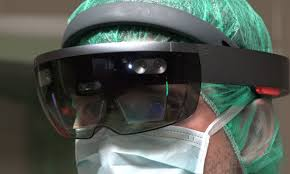hololens: (33, 34, 290, 142)
